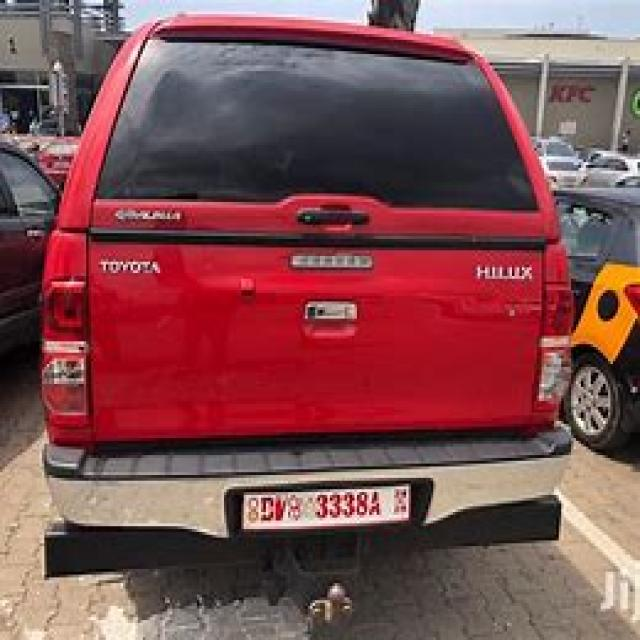light_vehicle: (22, 11, 576, 586)
